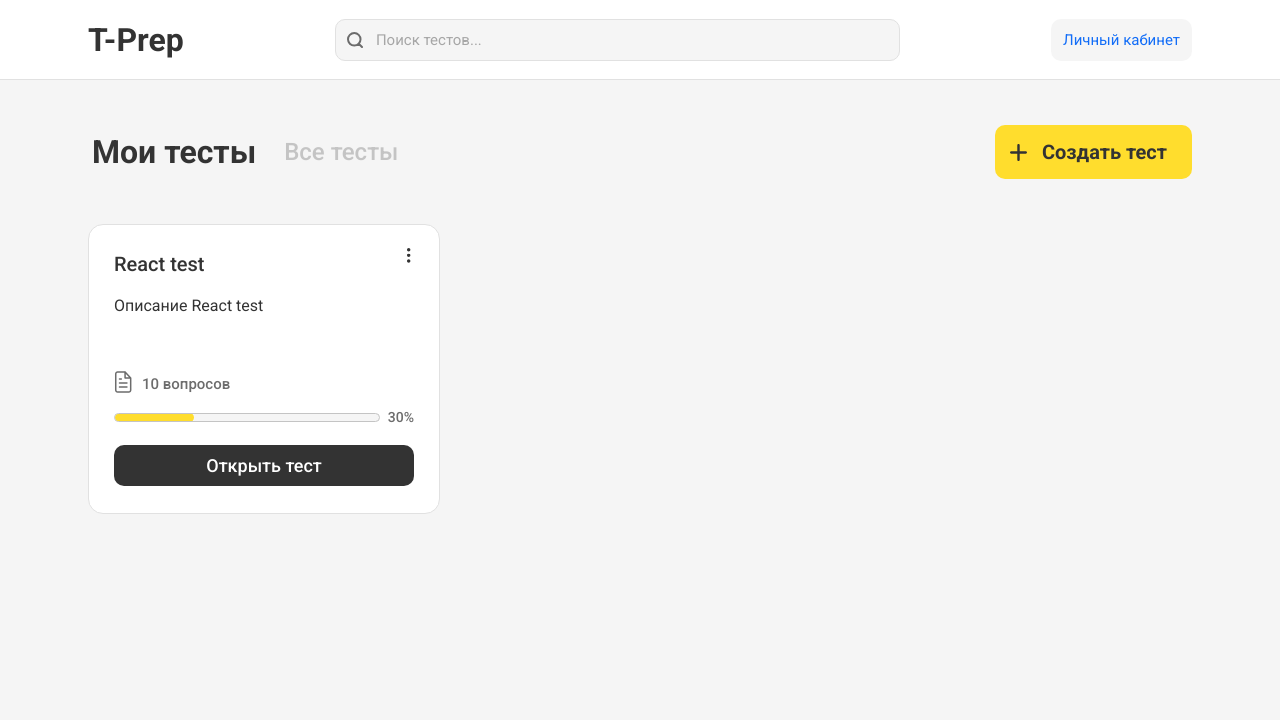
Scenario: MainPage › cards › deletes test through card menu, reloads list and shows toast
The image size is (1280, 720).
Check: the heading "React test" is shown, box left=114, top=252, right=204, bottom=276
Click the button named "Menu". click: (409, 255)
box: left=394, top=240, right=424, bottom=270
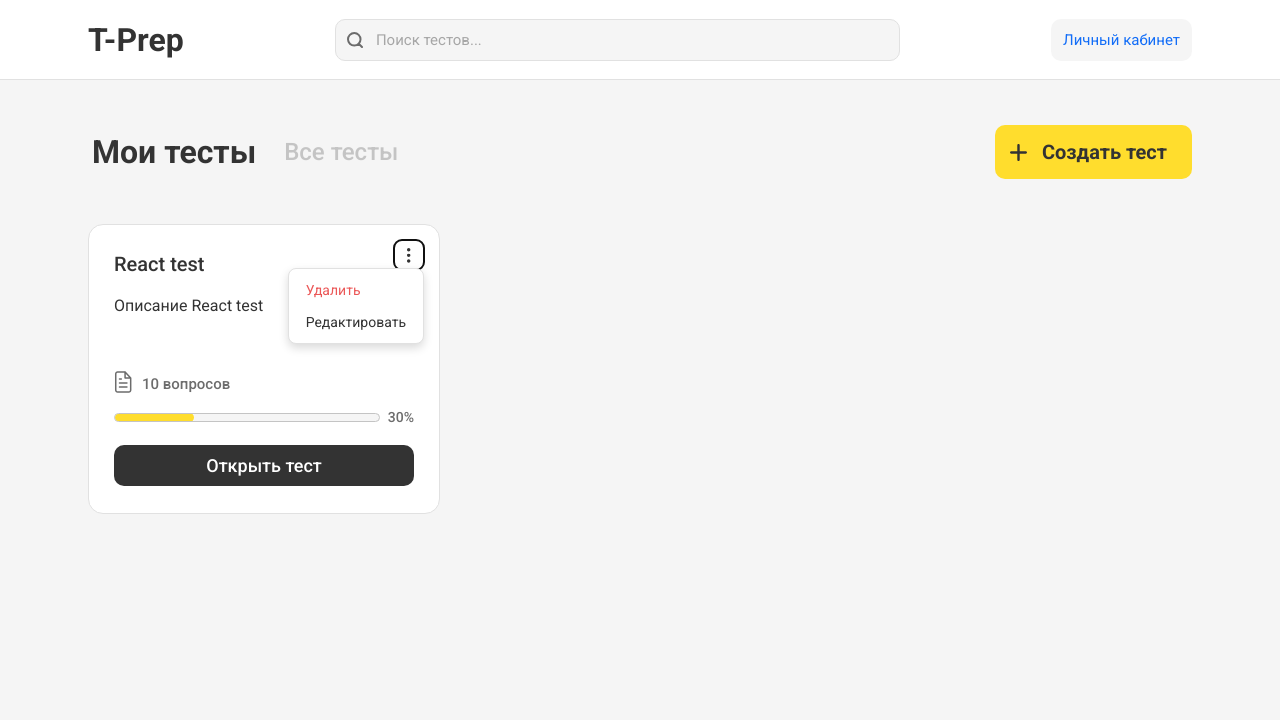
Click the button "Удалить". click: (356, 290)
box: left=294, top=274, right=418, bottom=306
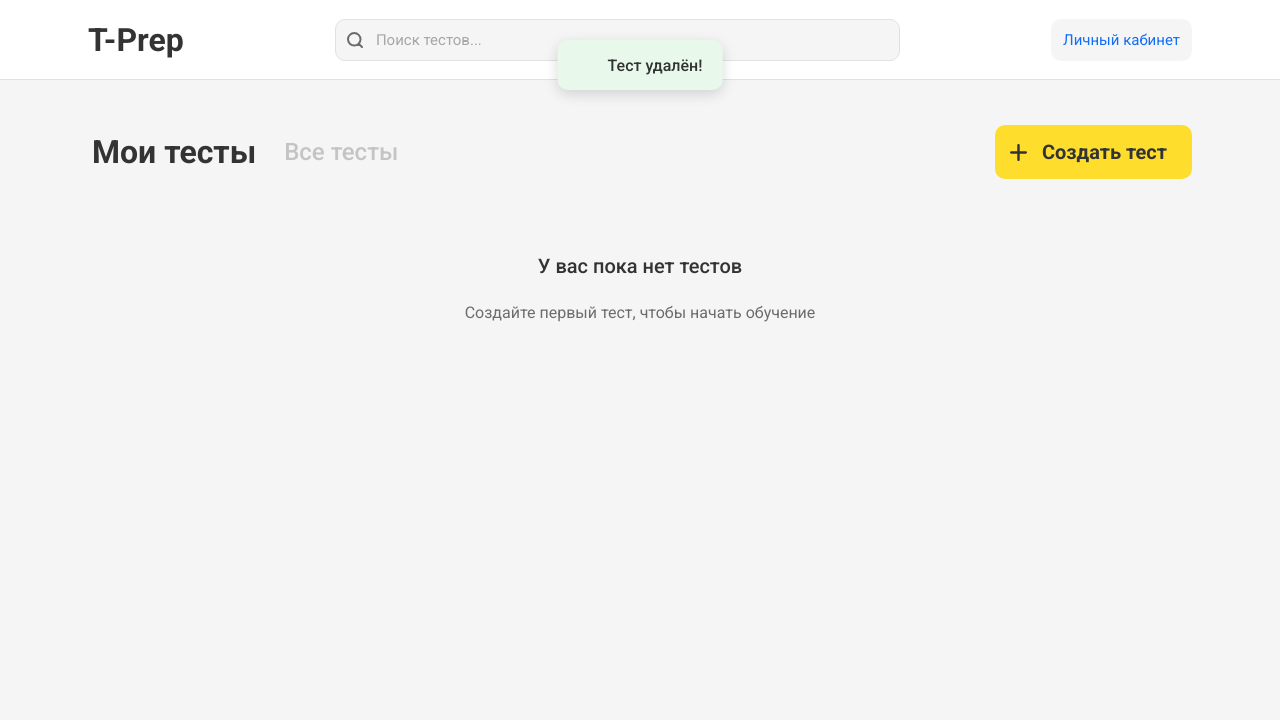
Check: the text "Тест удалён!" is shown, box left=608, top=56, right=702, bottom=74
Check: the text "У вас пока нет тестов" is shown, box left=538, top=254, right=742, bottom=278
